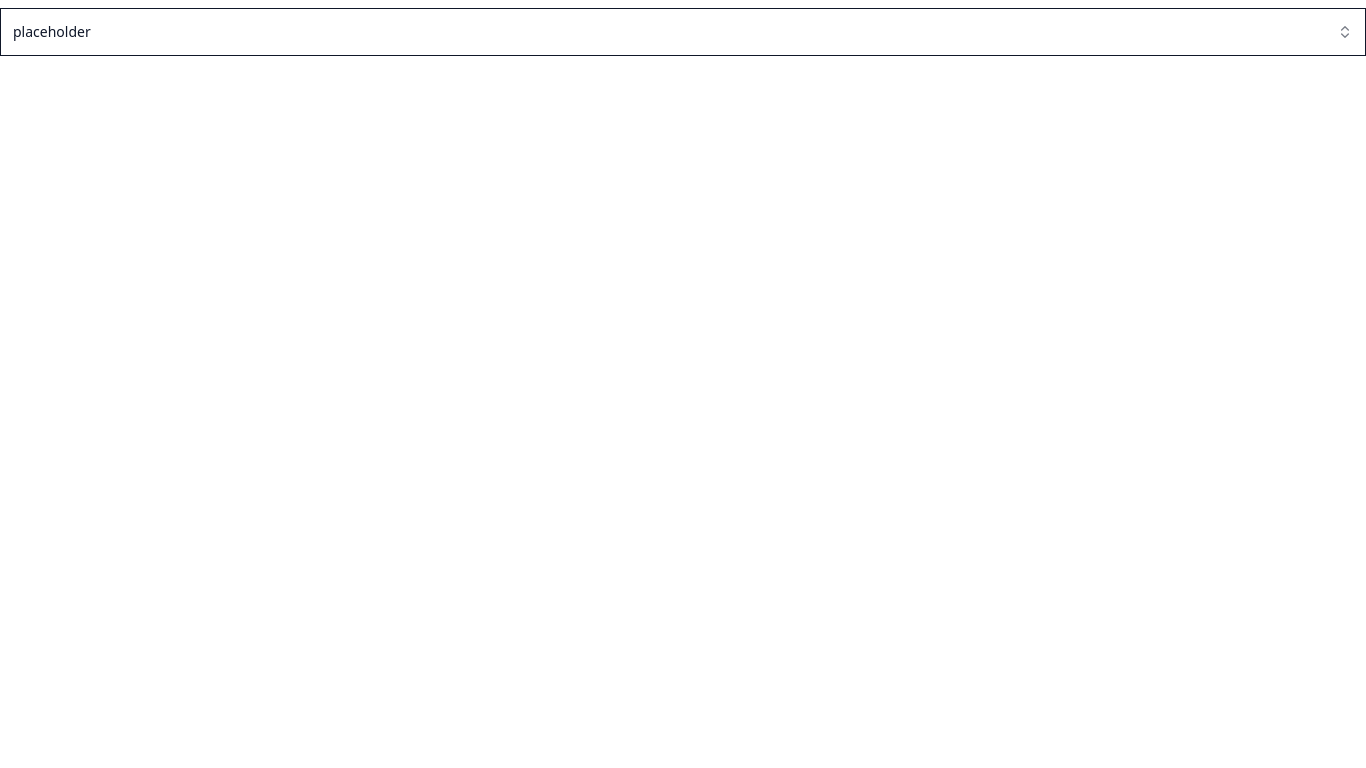
ProblemSearchCombobox › renders an opaque, viewport-contained portaled surface with authored problems first
The width and height of the screenshot is (1366, 768).
Click the dropdown at (52,31), box [0,8,1365,56]
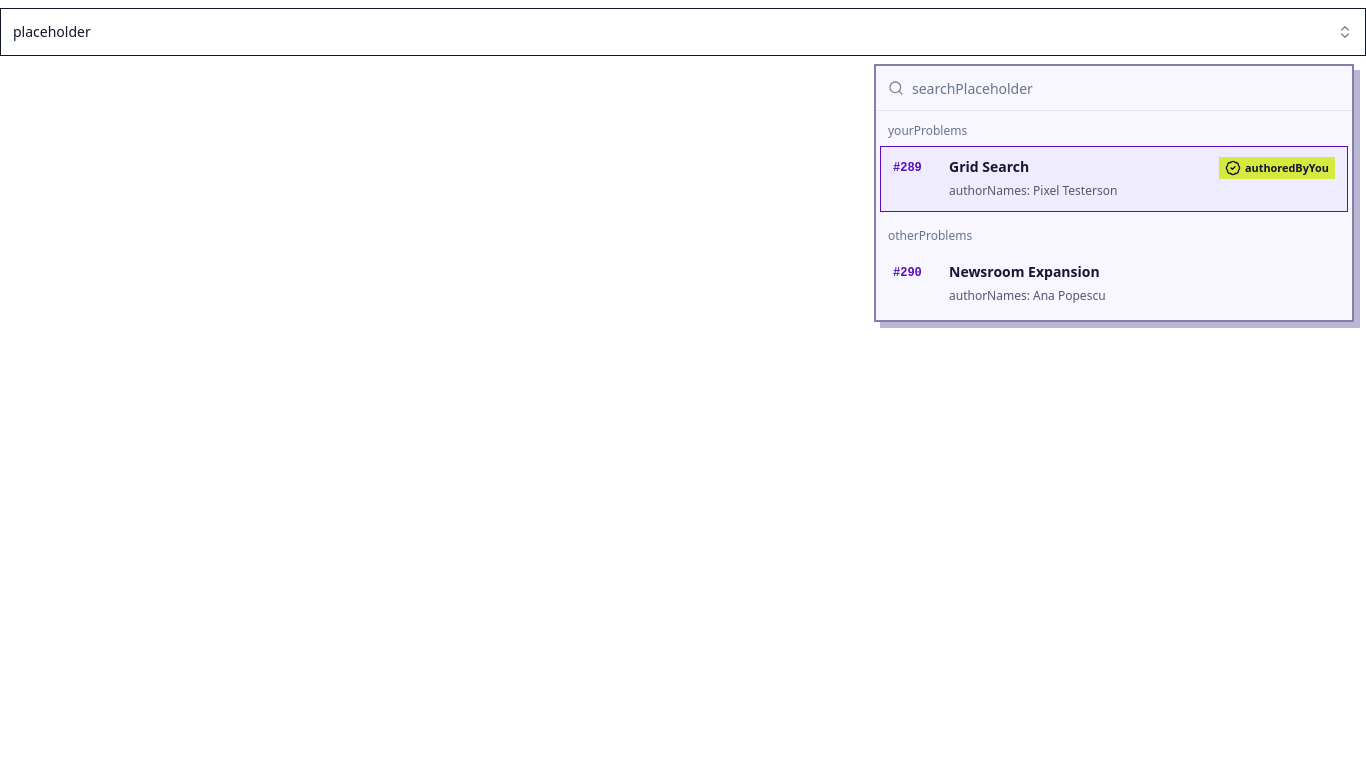
Expected: the text "yourProblems" is shown, [888,122,967,139]
Expected: the text "authorNames: Pixel Testerson" is shown, [949,182,1117,199]
Expected: the text "authorNames: Ana Popescu" is shown, [949,287,1106,304]
